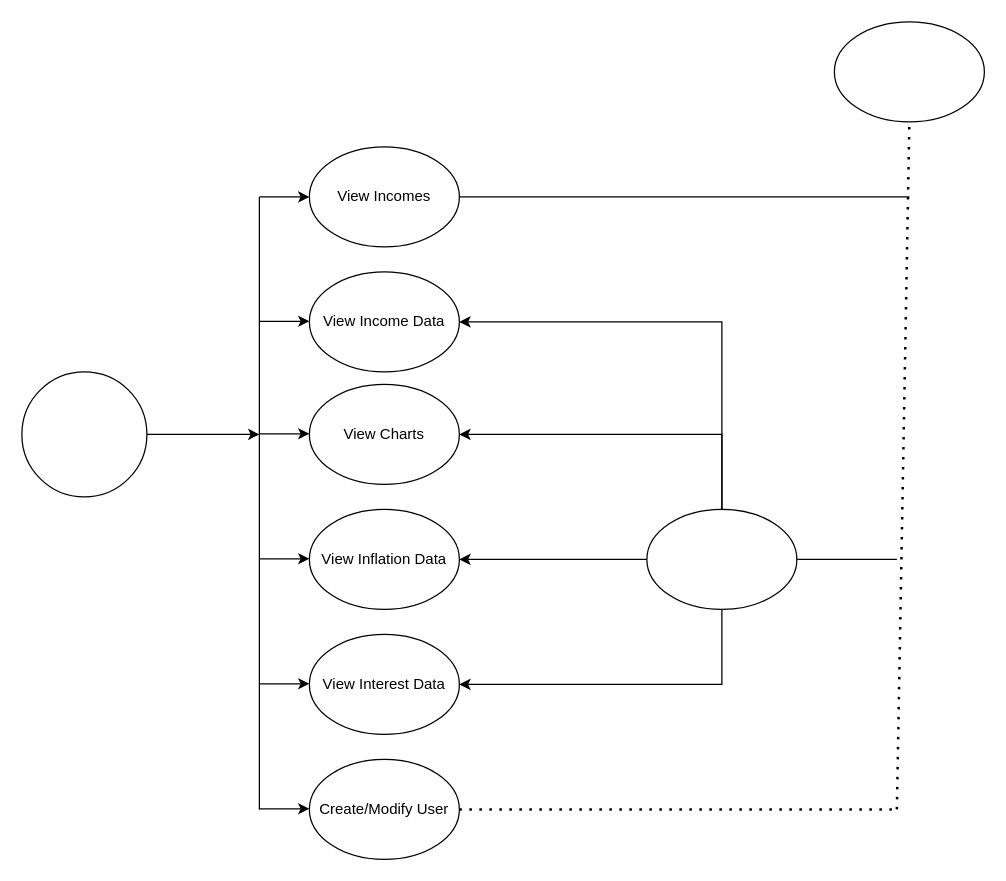
This 1006x881 diagram has some shape labels left out. Each missing label, with the centre of its shape:
"Filters" belongs at point 721,558.
"Log In" belongs at point 908,71.
"User" belongs at point 84,434.
